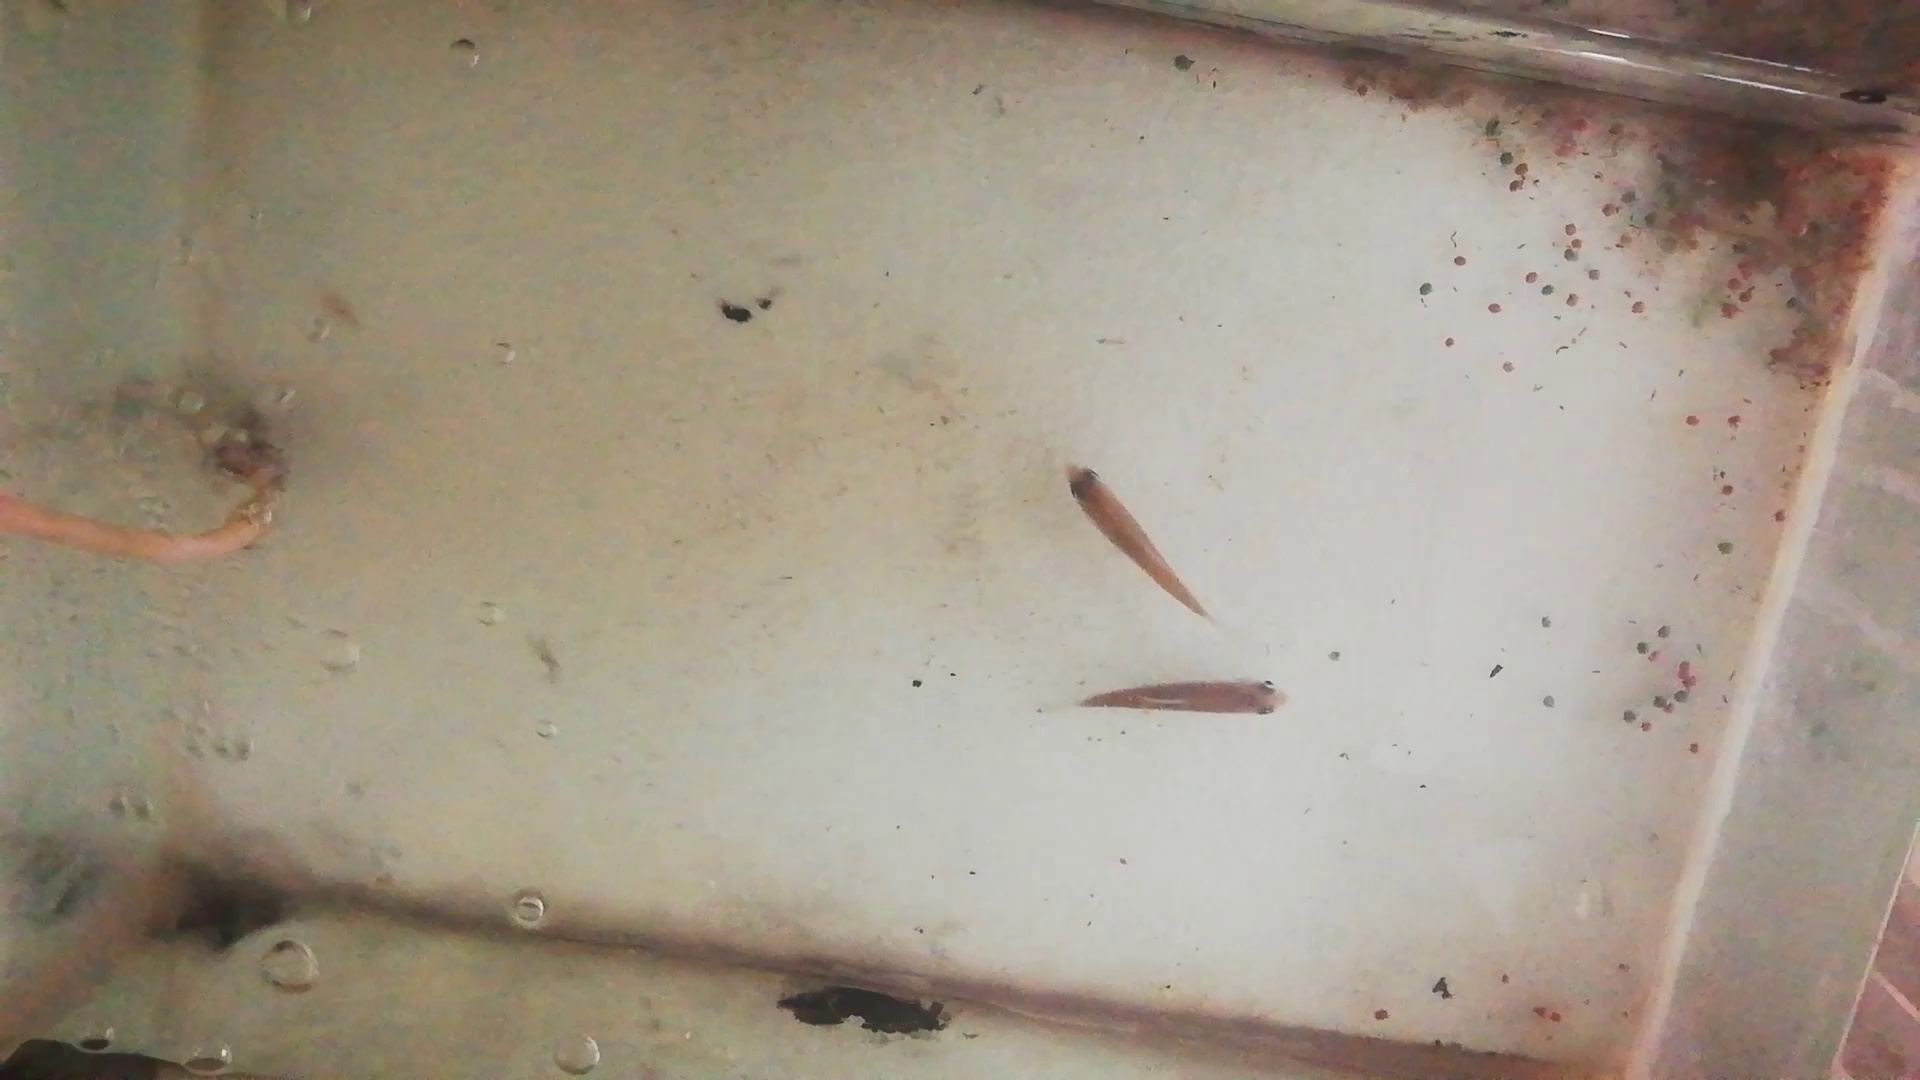fish: (1063, 462, 1199, 613), (1085, 674, 1286, 724)
